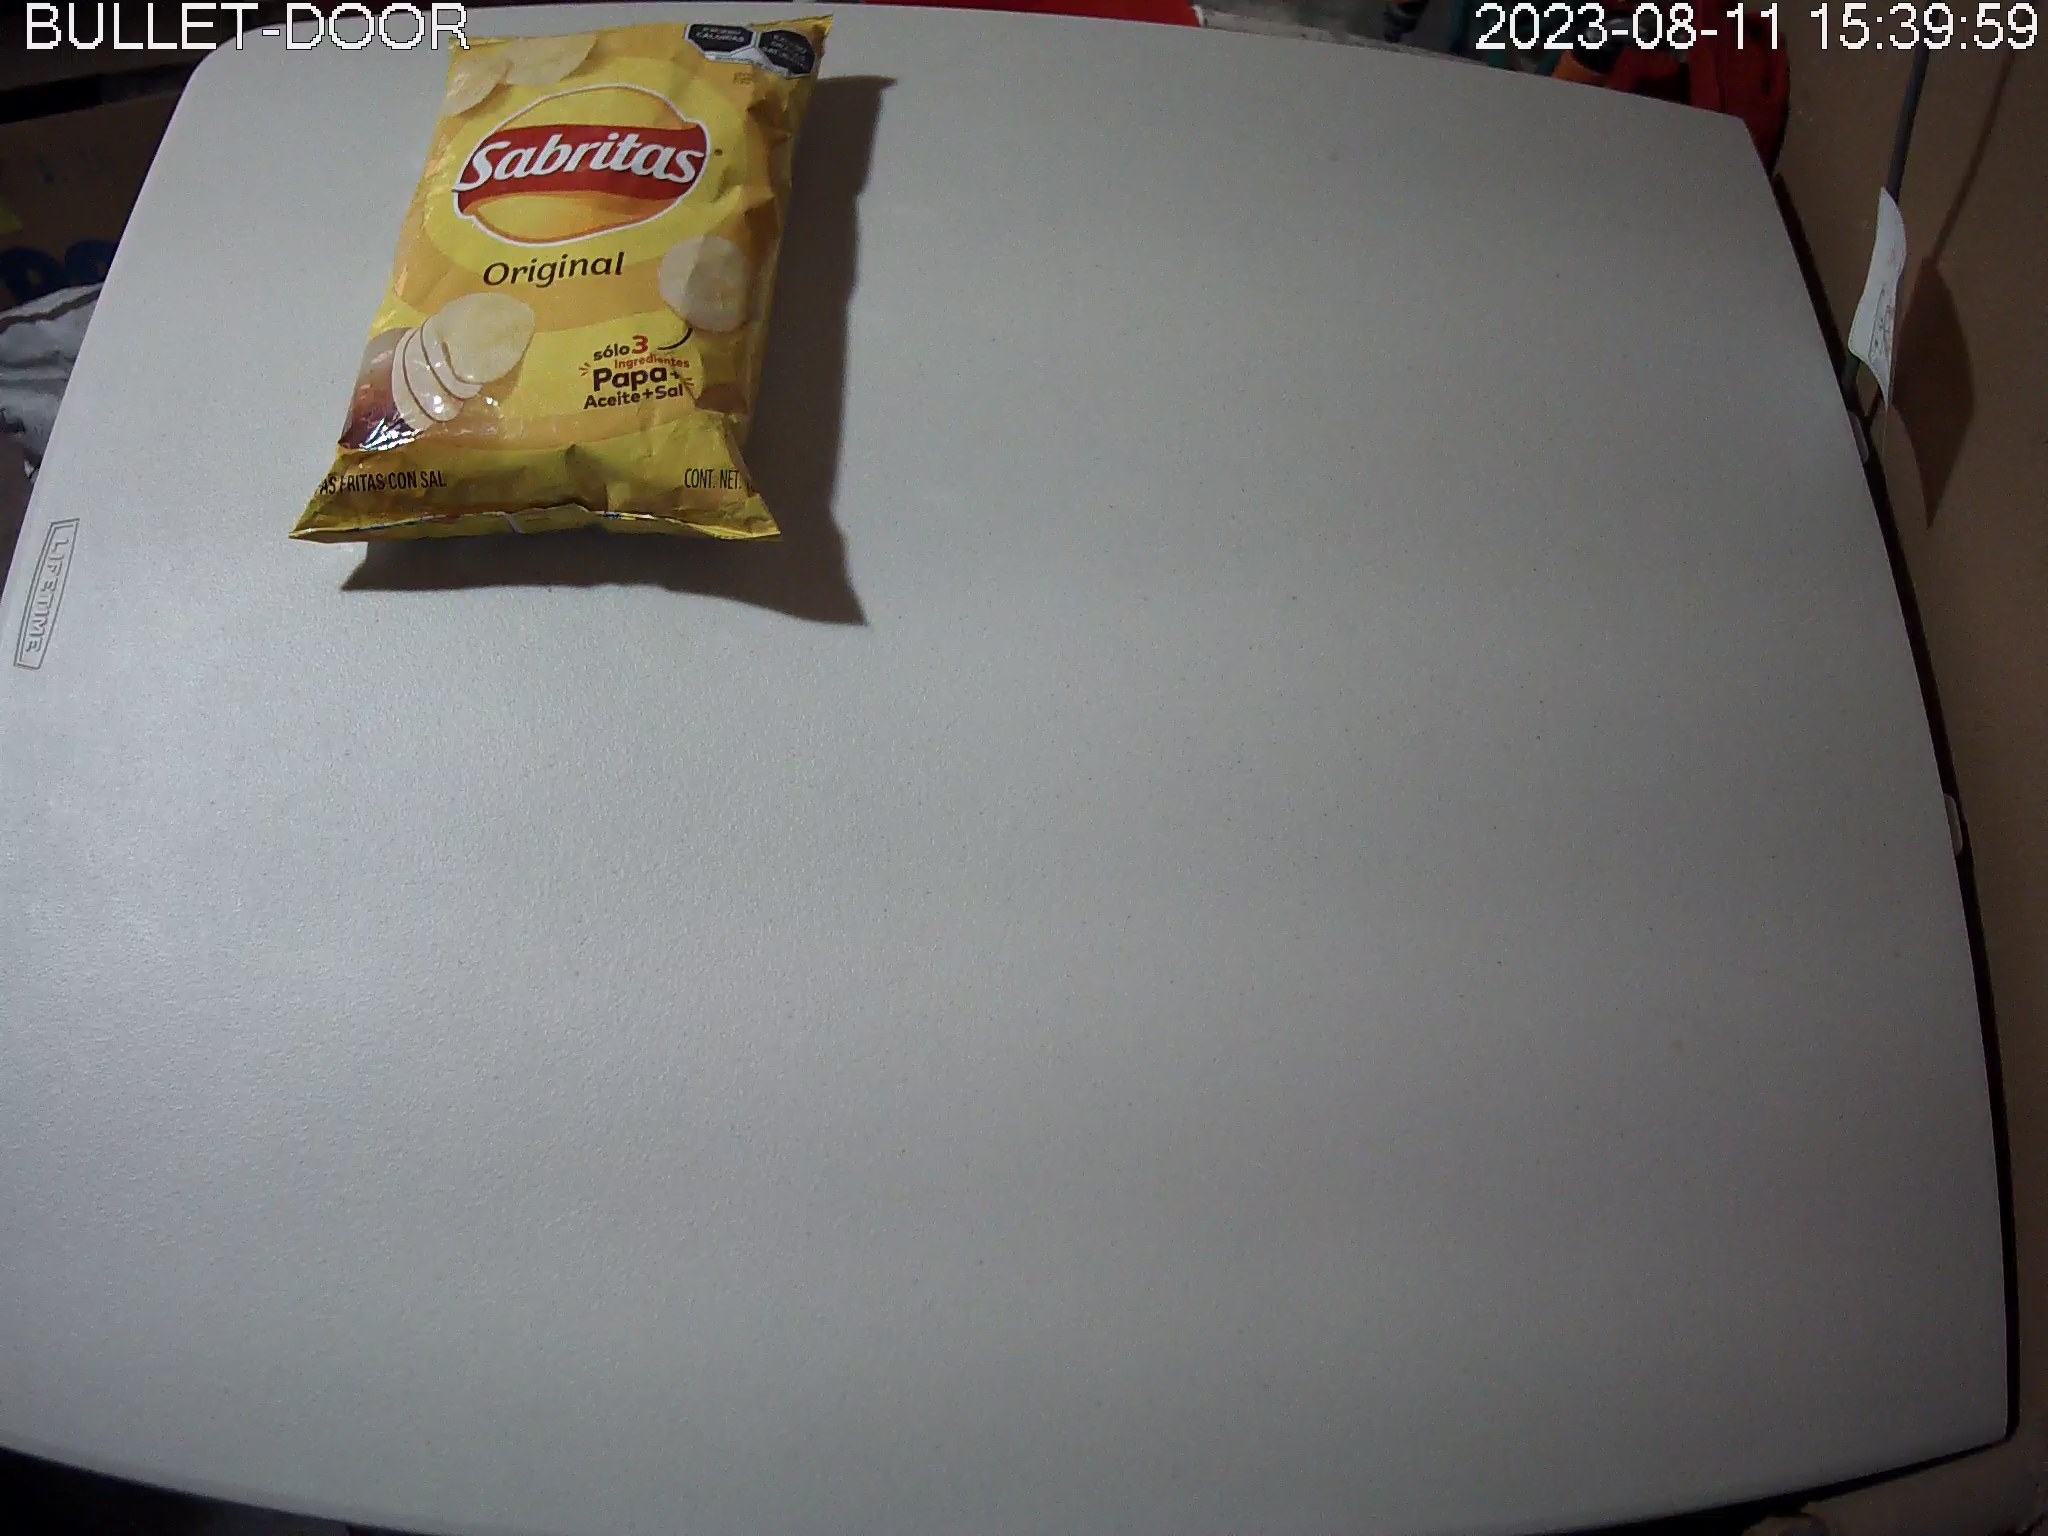Sabritas_160_F: (290, 15, 830, 544)
